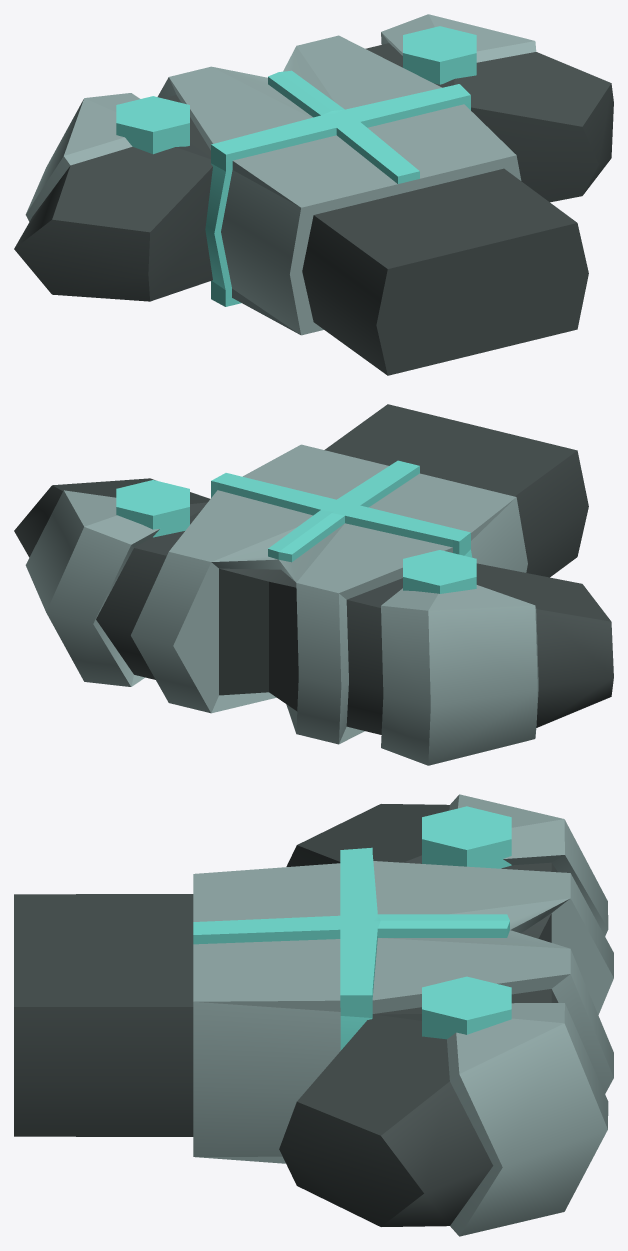
File: VyngridsWardmail.fbx
The picture shows the model from 3 angles, top to bottom: view 1: azimuth 30°, elevation 25°; view 2: azimuth 150°, elevation 25°; view 3: azimuth 270°, elevation 25°; orthographic projection. The views are drawn at different scales.
Visible parts, largest first — view 1: VyngridsWardMail; view 2: VyngridsWardMail; view 3: VyngridsWardMail.
Boxes of the visible parts, x1,y1,x2,y2 form: VyngridsWardMail: (14, 14, 613, 375); VyngridsWardMail: (14, 404, 613, 765); VyngridsWardMail: (14, 794, 613, 1236).
Size of the model in its own units: 4.96 by 1.28 by 3.53.
